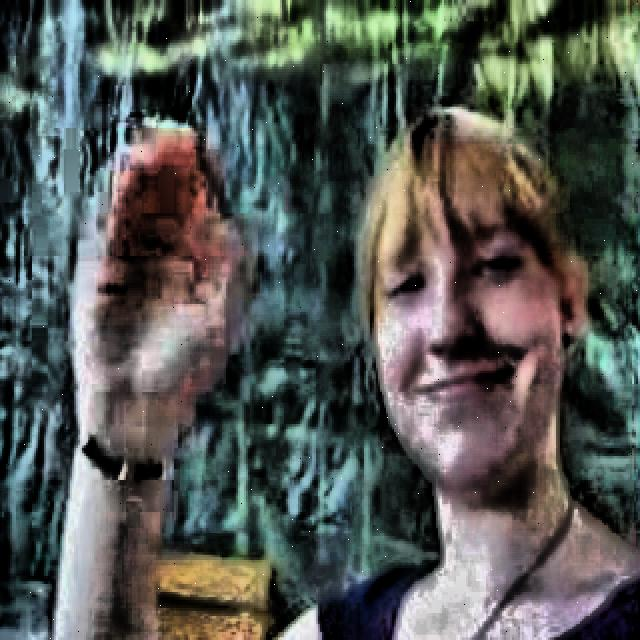T: (42, 106, 640, 632)
